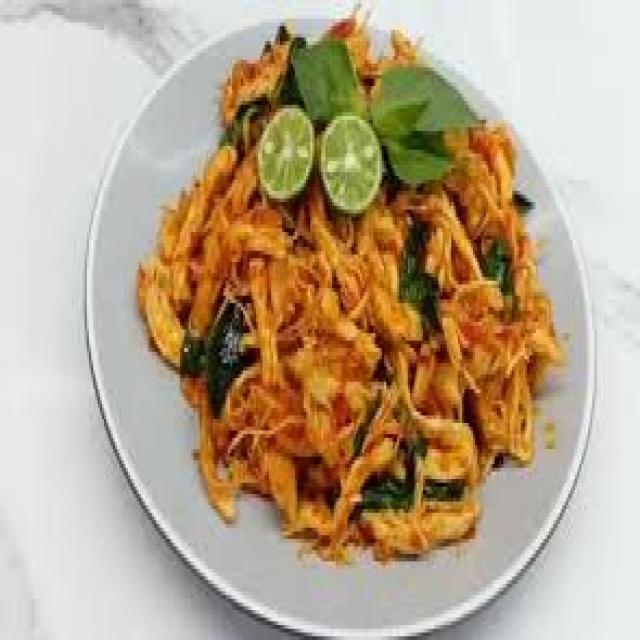ayam_suwir: (146, 28, 556, 552)
